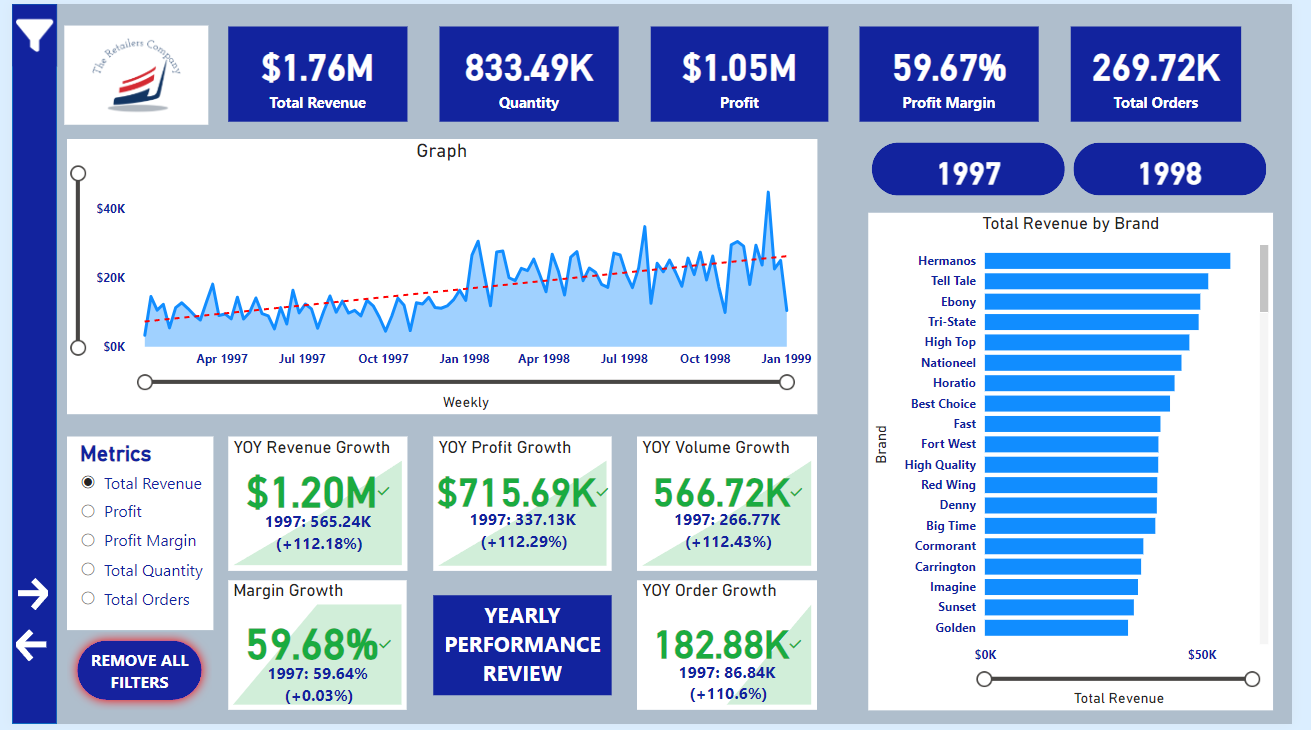

Layout of this report page (visuals, bound fields, positions):
{"tool":"powerbi","page":{"name":"Dashboard","canvas":[1280,720],"ordinal":0},"visuals":[{"type":"image","title":"Logo","box":[47.7,8.6,154.1,124.7],"z":0},{"type":"card","title":"Revenue","fields":{"Values":["Measures Table.Total Revenue"]},"box":[216.4,23.1,178.9,95.2],"z":1000},{"type":"lineChart","title":"Graph","fields":{"Y":["Measures table.Total Revenue"],"Category":["Calendar.Year Hierarchy.Year","Calendar.Year Hierarchy.End of Quarter","Calendar.Year Hierarchy.End of Month","Calendar.Year Hierarchy.End of Week","Calendar.Year Hierarchy.Date"]},"box":[55,135,750,275],"z":2000},{"type":"card","title":"Quantity","fields":{"Values":["Measures Table.Total Quantity"]},"box":[427.4,23.1,178.9,95.2],"z":3000},{"type":"card","title":"Profit","fields":{"Values":["Measures Table.Profit"]},"box":[638.4,23.1,177.5,95.2],"z":4000},{"type":"slicer","title":"Metrics","fields":{"Values":["Parameter.Parameter"]},"box":[55,432.9,146.7,193.2],"z":5000},{"type":"card","title":"Margins","fields":{"Values":["Measures Table.Profit Margin"]},"box":[848,23.1,178.9,95.2],"z":6000},{"type":"card","title":"Orders","fields":{"Values":["Measures table.Total Orders"]},"box":[1059,23.1,170.2,95.2],"z":7000},{"type":"barChart","fields":{"Y":["Measures table.Total Revenue"],"Category":["Products.Brand"]},"box":[856,209.1,404.8,497.7],"z":8000},{"type":"kpi","title":"YOY Revenue Growth","fields":{"Indicator":["Measures Table.Total Revenue"],"TrendLine":["Calendar.Year Hierarchy.Yearly"],"Goal":["Measures Table.Revenue Target"]},"box":[216.4,432.8,178.9,134.2],"z":9000},{"type":"kpi","title":"YOY Profit Growth","fields":{"TrendLine":["Calendar.Year Hierarchy.Yearly"],"Indicator":["Measures Table.Profit"],"Goal":["Measures Table.Profit Target"]},"box":[420.7,432.9,178.5,134.5],"z":10000},{"type":"kpi","title":"YOY Volume Growth","fields":{"TrendLine":["Calendar.Year Hierarchy.Yearly"],"Indicator":["Measures Table.Total Quantity"],"Goal":["Measures Table.Quantity Target"]},"box":[624.9,432.9,179.8,134.5],"z":11000},{"type":"kpi","title":"Margin Growth","fields":{"TrendLine":["Calendar.Year Hierarchy.Yearly"],"Indicator":["Measures Table.Profit Margin"],"Goal":["Measures Table.Margin Target"]},"box":[216.4,576,178.5,129.6],"z":12000},{"type":"advancedSlicerVisual","fields":{"Values":["Calendar.Yearly"]},"box":[855.6,134.2,405.4,63.5],"z":13000},{"type":"textbox","title":"Performance Review","box":[420.7,590.6,178.5,100.3],"z":14000},{"type":"actionButton","title":"Remove all filters","box":[55,626.2,145,80],"z":15000},{"type":"shape","title":"Bar","box":[0,0,45,720],"z":16000},{"type":"group","id":"g1","title":"Navigation arrows","box":[0,569.8,45.2,91.7],"z":17000},{"type":"actionButton","title":"Previous Page","box":[0,621.2,45.2,40.4],"z":17000,"group":"g1"},{"type":"actionButton","title":"Next Page","box":[0,569.8,45.2,40.4],"z":17500,"group":"g1"},{"type":"actionButton","title":"Extra filter button","box":[0,0,45.2,62.4],"z":18000},{"type":"kpi","title":"YOY Order Growth","fields":{"TrendLine":["Calendar.Year Hierarchy.Yearly"],"Indicator":["Measures table.1998 Orders"],"Goal":["Measures table.Order Target"]},"box":[624.9,576,179.8,129.6],"z":20000}]}

Visuals, with their boxes in screenshot pixels (x1, y1, x2, y2), scaled from the page's 1280x720 canvas onto the 1311x730 screenshot:
"Logo" image: [x1=49, y1=9, x2=207, y2=135]
"Revenue" card: [x1=222, y1=23, x2=405, y2=120]
"Graph" lineChart: [x1=56, y1=137, x2=824, y2=416]
"Quantity" card: [x1=438, y1=23, x2=621, y2=120]
"Profit" card: [x1=654, y1=23, x2=836, y2=120]
"Metrics" slicer: [x1=56, y1=439, x2=207, y2=635]
"Margins" card: [x1=869, y1=23, x2=1052, y2=120]
"Orders" card: [x1=1085, y1=23, x2=1259, y2=120]
barChart - Measures table.Total Revenue x Products.Brand: [x1=877, y1=212, x2=1291, y2=717]
"YOY Revenue Growth" kpi: [x1=222, y1=439, x2=405, y2=575]
"YOY Profit Growth" kpi: [x1=431, y1=439, x2=614, y2=575]
"YOY Volume Growth" kpi: [x1=640, y1=439, x2=824, y2=575]
"Margin Growth" kpi: [x1=222, y1=584, x2=404, y2=715]
advancedSlicerVisual - Calendar.Yearly: [x1=876, y1=136, x2=1292, y2=200]
"Performance Review" textbox: [x1=431, y1=599, x2=614, y2=700]
"Remove all filters" actionButton: [x1=56, y1=635, x2=205, y2=716]
"Bar" shape: [x1=0, y1=0, x2=46, y2=729]
"Navigation arrows" group: [x1=0, y1=578, x2=46, y2=671]
"Previous Page" actionButton: [x1=0, y1=630, x2=46, y2=671]
"Next Page" actionButton: [x1=0, y1=578, x2=46, y2=619]
"Extra filter button" actionButton: [x1=0, y1=0, x2=46, y2=63]
"YOY Order Growth" kpi: [x1=640, y1=584, x2=824, y2=715]
